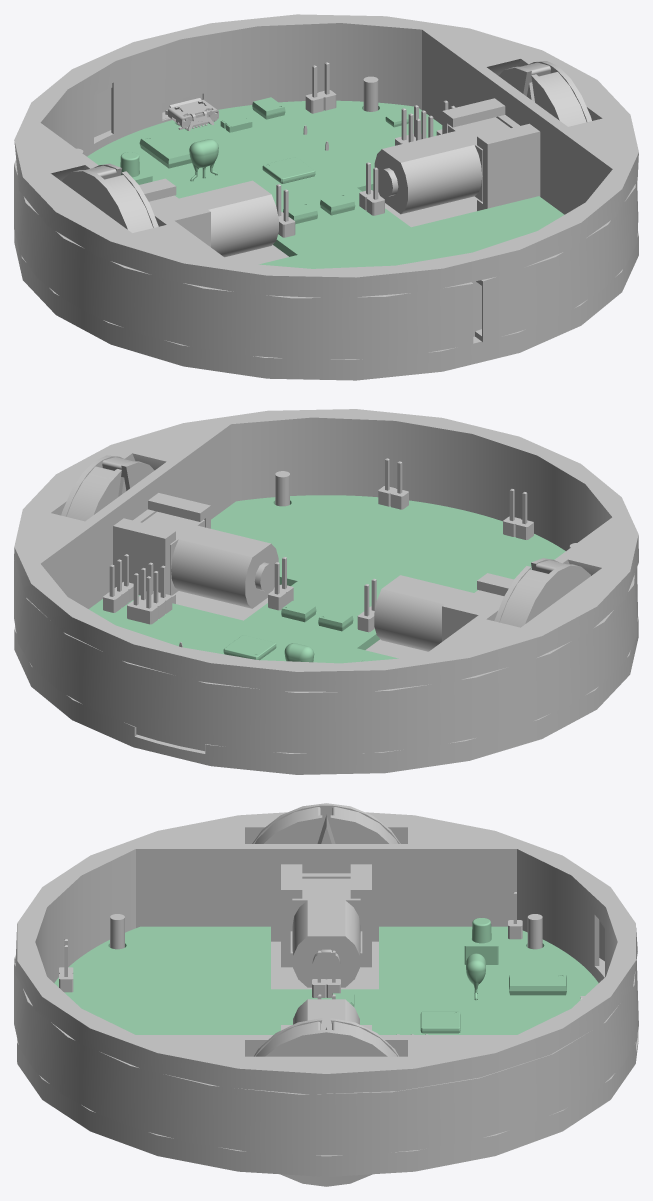
Rendered from roomba.glb.
3 views of the same model, one above another, from view 1: azimuth 30°, elevation 25°; view 2: azimuth 150°, elevation 25°; view 3: azimuth 270°, elevation 25° (orthographic).
Parts seen in each view (by area): view 1: Casing, LED_Diffuser, PCB, DC Motor (×2), Wheel (×2), SOLID (2) (×3), SOLID (5), COMPOUND (2), COMPOUND (×2), SOLID (6), COMPOUND (4), COMPOUND (5); view 2: Casing, LED_Diffuser, PCB, DC Motor (×2), Wheel (×2), SOLID (2) (×4), SOLID (6), COMPOUND (×2), SOLID (7), COMPOUND (4); view 3: Casing, LED_Diffuser, PCB, Wheel (×2), DC Motor (×2), COMPOUND (2), COMPOUND (4), SOLID (2), COMPOUND (5).
Boxes of the visible parts, x1=… form: Casing: x1=14, y1=14, x2=638, y2=380; LED_Diffuser: x1=14, y1=83, x2=638, y2=359; PCB: x1=87, y1=100, x2=564, y2=268; DC Motor (×2): x1=149, y1=117, x2=510, y2=257; Wheel (×2): x1=62, y1=61, x2=591, y2=232; SOLID (2) (×3): x1=276, y1=62, x2=384, y2=237; SOLID (5): x1=165, y1=98, x2=218, y2=130; COMPOUND (2): x1=139, y1=133, x2=191, y2=168; COMPOUND (×2): x1=252, y1=97, x2=355, y2=215; SOLID (6): x1=395, y1=105, x2=433, y2=145; COMPOUND (4): x1=262, y1=157, x2=315, y2=183; COMPOUND (5): x1=189, y1=139, x2=218, y2=171; Casing: x1=14, y1=409, x2=638, y2=774; LED_Diffuser: x1=14, y1=560, x2=637, y2=754; PCB: x1=89, y1=495, x2=565, y2=663; DC Motor (×2): x1=142, y1=511, x2=503, y2=651; Wheel (×2): x1=61, y1=455, x2=590, y2=627; SOLID (2) (×4): x1=268, y1=458, x2=533, y2=632; SOLID (6): x1=127, y1=562, x2=172, y2=624; COMPOUND (×2): x1=281, y1=601, x2=353, y2=631; SOLID (7): x1=103, y1=554, x2=133, y2=612; COMPOUND (4): x1=223, y1=635, x2=276, y2=660; Casing: x1=15, y1=812, x2=638, y2=1176; LED_Diffuser: x1=14, y1=919, x2=638, y2=1155; PCB: x1=54, y1=926, x2=598, y2=1034; Wheel (×2): x1=252, y1=803, x2=400, y2=1186; DC Motor (×2): x1=292, y1=878, x2=360, y2=1029; COMPOUND (2): x1=509, y1=974, x2=566, y2=995; COMPOUND (4): x1=420, y1=1011, x2=460, y2=1033; SOLID (2): x1=312, y1=950, x2=340, y2=997; COMPOUND (5): x1=466, y1=953, x2=485, y2=989.
Bounding box in the file's own units: 0.11 × 0.0306 × 0.11.
